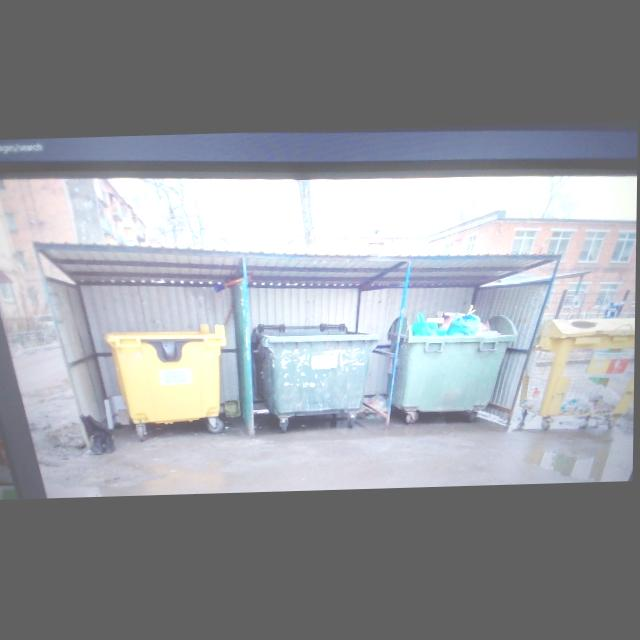Trash_Can_Empty: (104, 330, 226, 424), (256, 329, 382, 417)
Trash_Can_Full: (388, 312, 520, 416)
